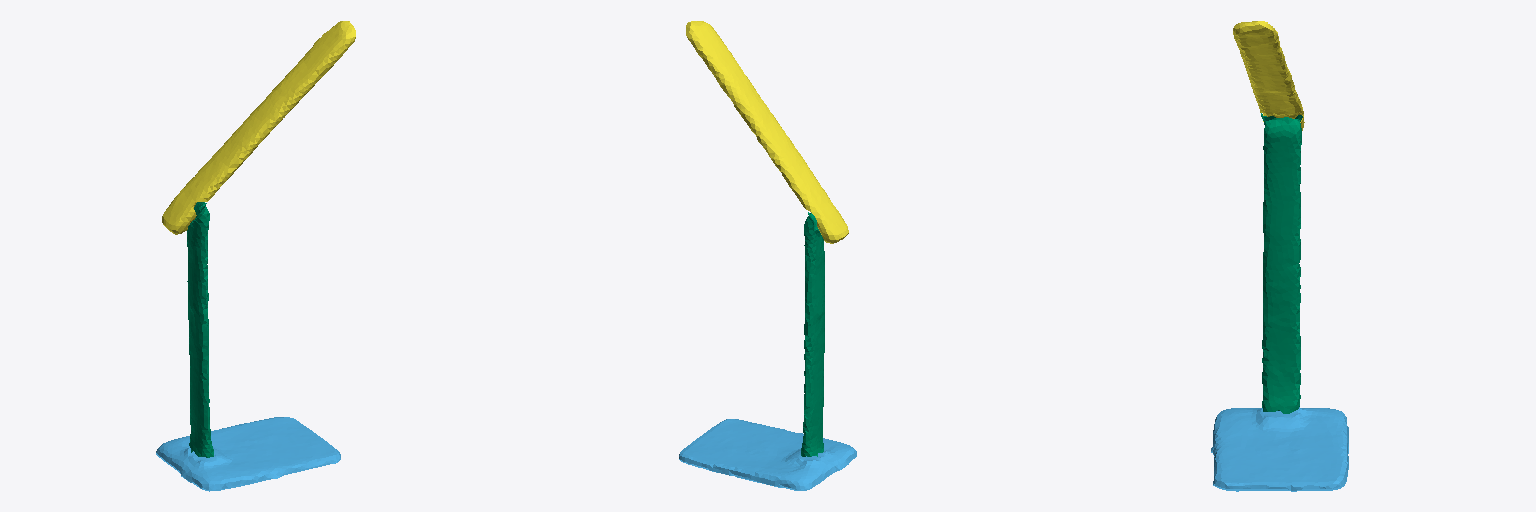
The robot description file, URDF, robot "object":
<?xml version='1.0' encoding='utf-8'?>
<robot name="object">
  <link name="base">
    <inertial>
      <origin xyz="0 0 0" rpy="0 0 0" />
      <mass value="0.0" />
      <inertia ixx="0" ixy="0" ixz="0" iyy="0" iyz="0" izz="0" />
    </inertial>
  </link>
  <link name="link_1">
    <visual>
      <origin xyz="0 0 0" rpy="0 0 0" />
      <geometry>
        <mesh filename="meshes/link_1.stl" />
      </geometry>
    </visual>
    <collision>
      <origin xyz="0 0 0" rpy="0 0 0" />
      <geometry>
        <mesh filename="meshes/link_1.stl" />
      </geometry>
    </collision>
    <inertial>
      <origin xyz="0.23995687 0.0285566408 0.0273525866" rpy="0 0 0" />
      <mass value="16.0218441" />
      <inertia ixx="0.454655734" ixy="-0.00398682659" ixz="0.000753750309" iyy="0.832298016" iyz="-0.00177140392" izz="1.2996348" />
    </inertial>
  </link>
  <link name="link_2">
    <visual>
      <origin xyz="-0.0172239204 -0.0133358395 -0.0818112754" rpy="0 0 0" />
      <geometry>
        <mesh filename="meshes/link_2.stl" />
      </geometry>
    </visual>
    <collision>
      <origin xyz="-0.0172239204 -0.0133358395 -0.0818112754" rpy="0 0 0" />
      <geometry>
        <mesh filename="meshes/link_2.stl" />
      </geometry>
    </collision>
    <inertial>
      <origin xyz="-0.0148797157 0.00826289929 -0.94794117" rpy="0 0 0" />
      <mass value="11.4094013" />
      <inertia ixx="-60.1743004" ixy="-1.60346989e-05" ixz="-1.34165492" iyy="-60.1957762" iyz="0.0831256208" izz="0.0279499556" />
    </inertial>
  </link>
  <link name="link_3">
    <visual>
      <origin xyz="0.0323570664 -0.0251250736 -1.51021693" rpy="0 0 0" />
      <geometry>
        <mesh filename="meshes/link_3.stl" />
      </geometry>
    </visual>
    <collision>
      <origin xyz="0.0323570664 -0.0251250736 -1.51021693" rpy="0 0 0" />
      <geometry>
        <mesh filename="meshes/link_3.stl" />
      </geometry>
    </collision>
    <inertial>
      <origin xyz="0.35880237 -0.0639950513 0.398196623" rpy="0 0 0" />
      <mass value="15.8262726" />
      <inertia ixx="1.32856102" ixy="0.204755507" ixz="-1.27760875" iyy="2.567548" iyz="0.200021063" izz="1.38279242" />
    </inertial>
  </link>
  <joint name="joint_1_2" type="revolute">
    <parent link="link_1" />
    <child link="link_2" />
    <origin xyz="0.0172239204 0.0133358395 0.0818112754" rpy="0 0 0" />
    <axis xyz="0.00848975594 0.999811721 -0.0174483992" />
    <limit lower="-1.57" upper="1.57" effort="10.0" velocity="1.0" />
  </joint>
  <joint name="joint_2_3" type="revolute">
    <parent link="link_2" />
    <child link="link_3" />
    <origin xyz="-0.0495809867 0.0117892341 1.42840565" rpy="0 0 0" />
    <axis xyz="0.0551568588 0.998477632 0.000373514033" />
    <limit lower="-1.57" upper="1.57" effort="10.0" velocity="1.0" />
  </joint>
  <joint name="base_to_1" type="fixed">
    <parent link="base" />
    <child link="link_1" />
    <origin xyz="0 0 0" rpy="0 0 0" />
  </joint>
</robot>

--- Render facts (derived) ---
The picture shows the robot from 3 angles, left to right: view 1: azimuth 30°, elevation 25°; view 2: azimuth 150°, elevation 25°; view 3: azimuth 270°, elevation 25°; orthographic projection.
Model object with 4 links and 3 joints (2 revolute, 1 fixed), rooted at base, posed every joint at zero.
Visible links, largest first — view 1: link_1, link_3, link_2; view 2: link_1, link_3, link_2; view 3: link_2, link_1, link_3.
Link boxes in pixels (x1=…): link_1: x1=156, y1=417, x2=340, y2=491; link_3: x1=162, y1=21, x2=355, y2=234; link_2: x1=187, y1=202, x2=213, y2=457; link_1: x1=679, y1=419, x2=856, y2=490; link_3: x1=686, y1=21, x2=848, y2=243; link_2: x1=801, y1=212, x2=824, y2=456; link_2: x1=1261, y1=113, x2=1302, y2=413; link_1: x1=1211, y1=407, x2=1348, y2=491; link_3: x1=1233, y1=21, x2=1304, y2=130.
Bounding box of the posed robot: 1.04 × 0.6304 × 2.41 m (x, y, z).
Meshes: 3 distinct files referenced, 3 mesh visuals loaded (3 binary STL).
